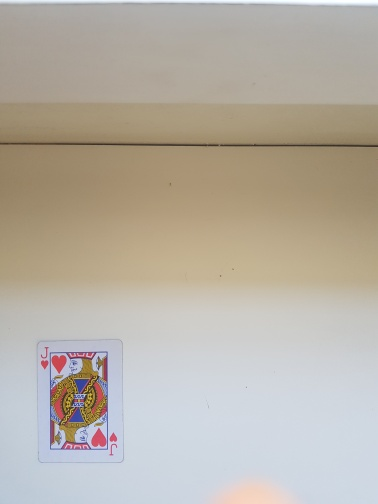jack: (35, 339, 124, 464)
